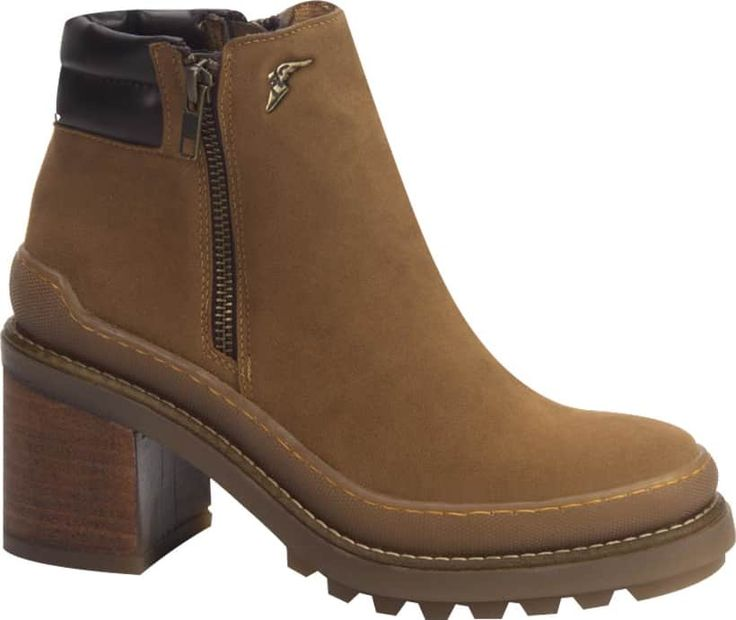gamuza: (6, 1, 700, 505)
